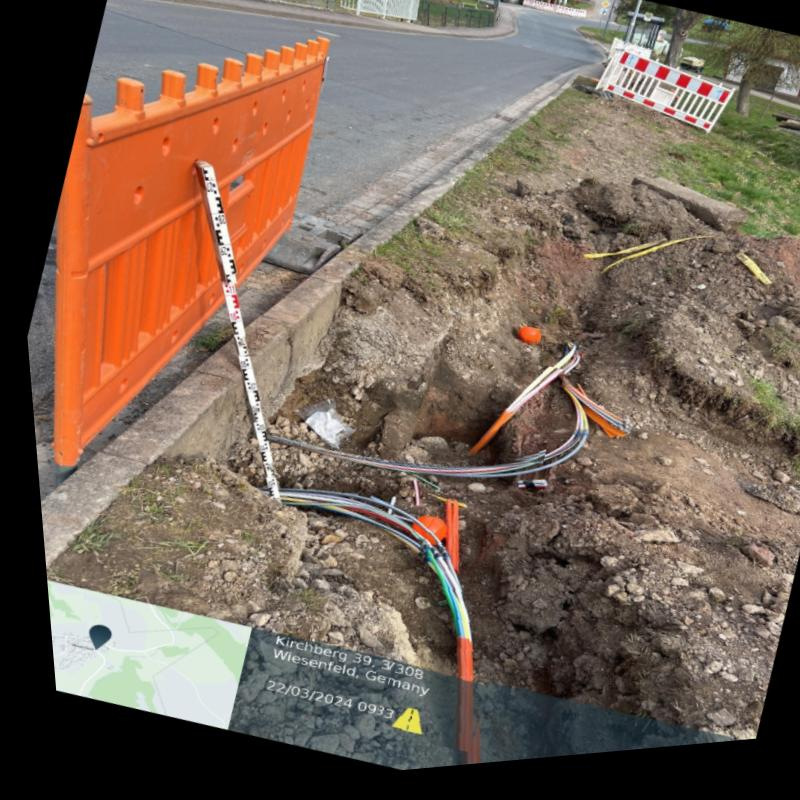Kugelmarker: (403, 524, 438, 551), (512, 336, 533, 353)
Orang-Speednetrohrchen: (408, 546, 461, 761), (462, 376, 558, 462)
